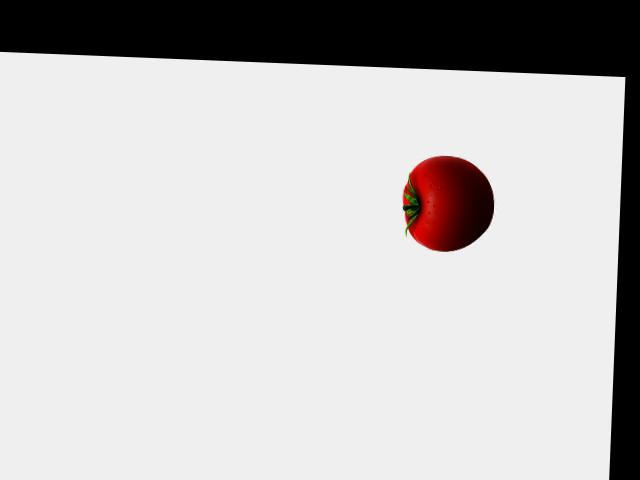tomato: (401, 165, 495, 253)
